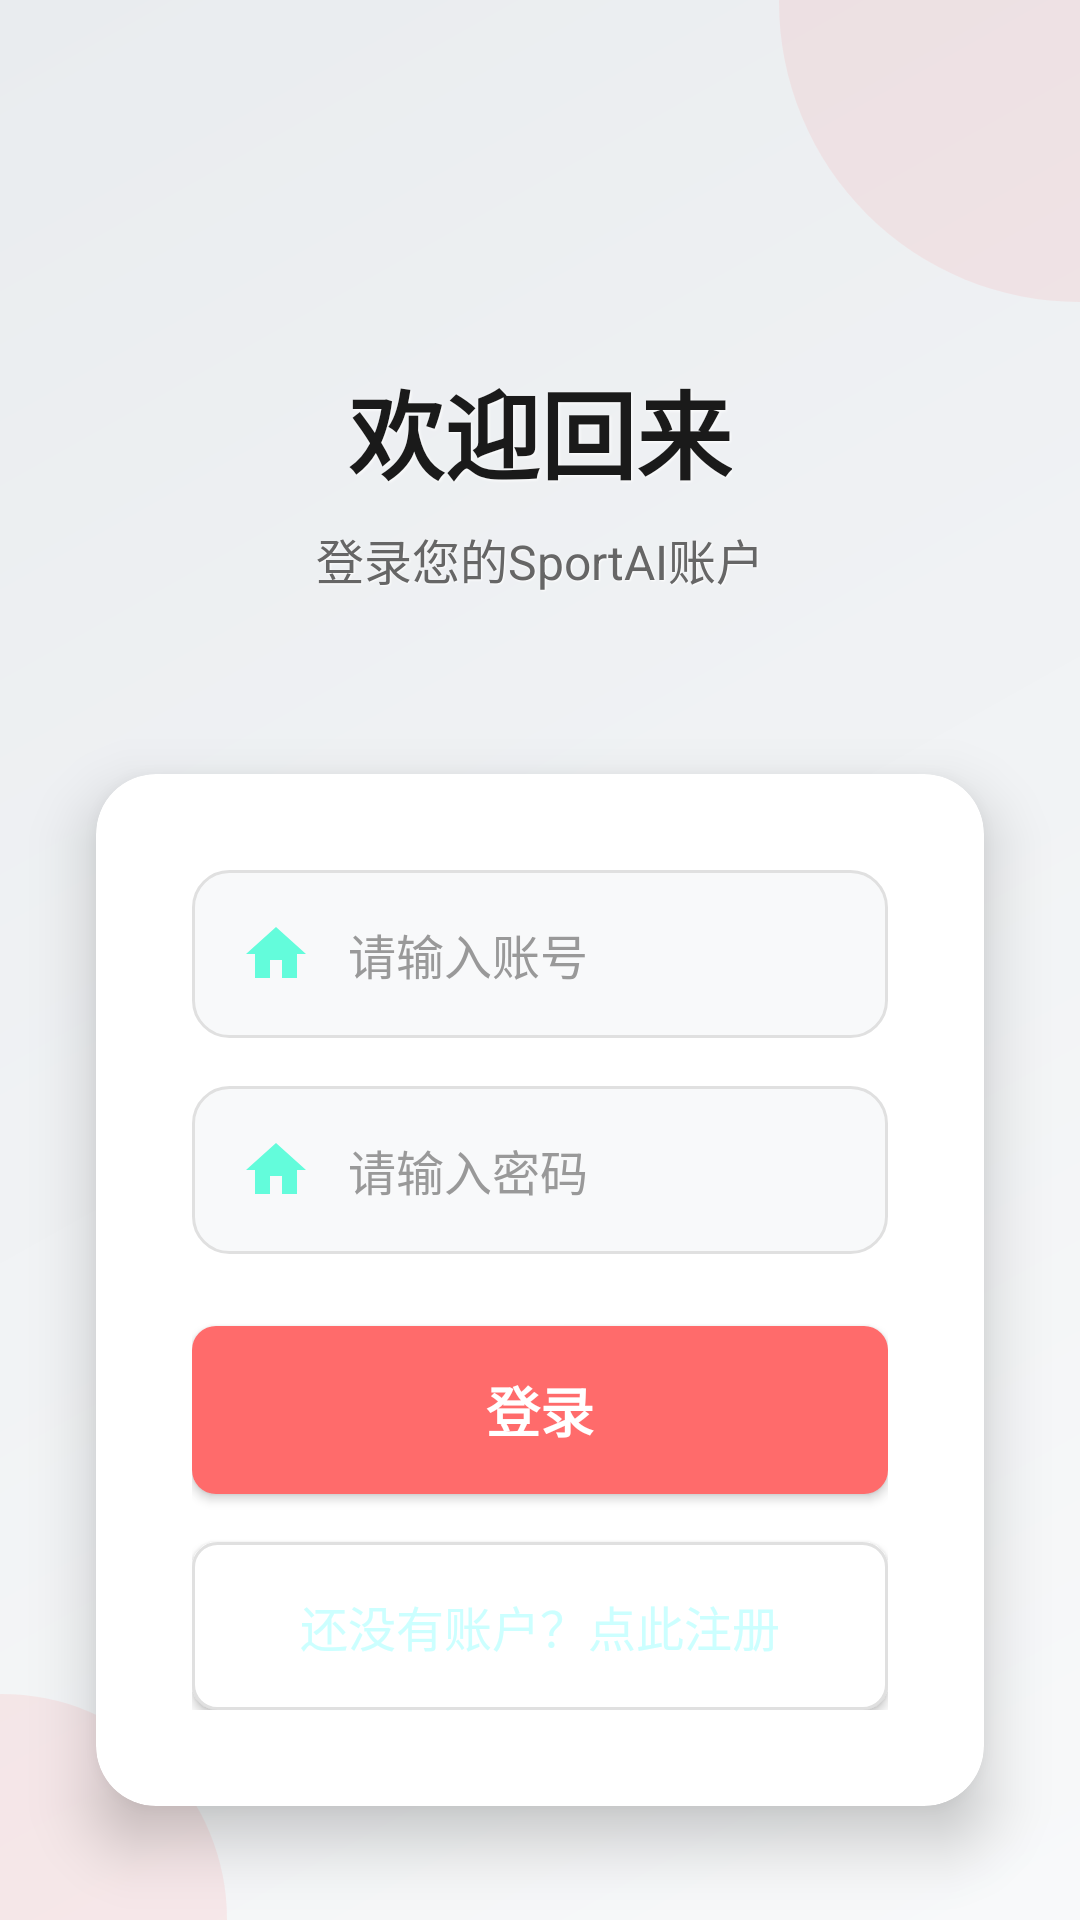

Screen size 1080px x 1920px. Icon name, then its box in pixels as bbox=(x1, y1, x2, y2):
home: bbox=(246, 927, 306, 978), bbox=(246, 1143, 306, 1194)
